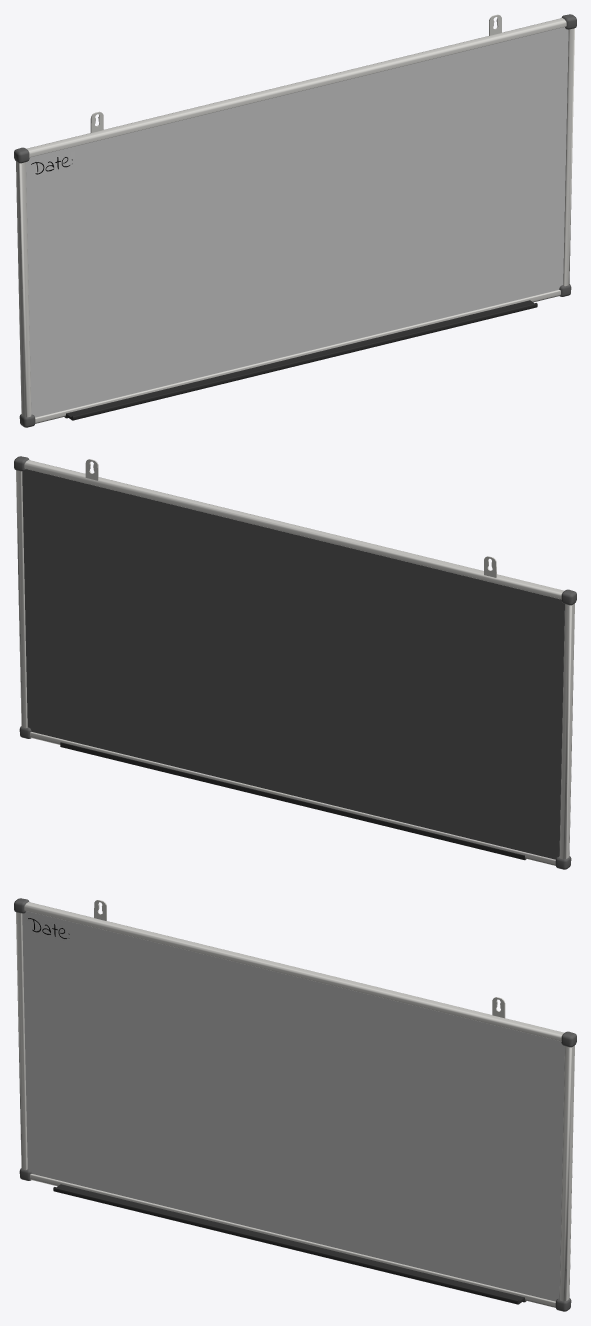
Rendered from whiteboard_low-poly.glb.
3 views of the same model, one above another, from view 1: azimuth 30°, elevation 25°; view 2: azimuth 150°, elevation 25°; view 3: azimuth 330°, elevation 25° (orthographic).
Parts seen in each view (by area): view 1: White_board_White_board_0; view 2: White_board_White_board_0; view 3: White_board_White_board_0.
Part boxes in pixels (bbox=[...]): White_board_White_board_0: bbox=[14, 14, 576, 427]; White_board_White_board_0: bbox=[14, 456, 576, 869]; White_board_White_board_0: bbox=[14, 898, 576, 1311].
Bounding box in the file's own units: 1.36 × 0.6827 × 0.055.
Materials: 1 (1 with a texture image).
